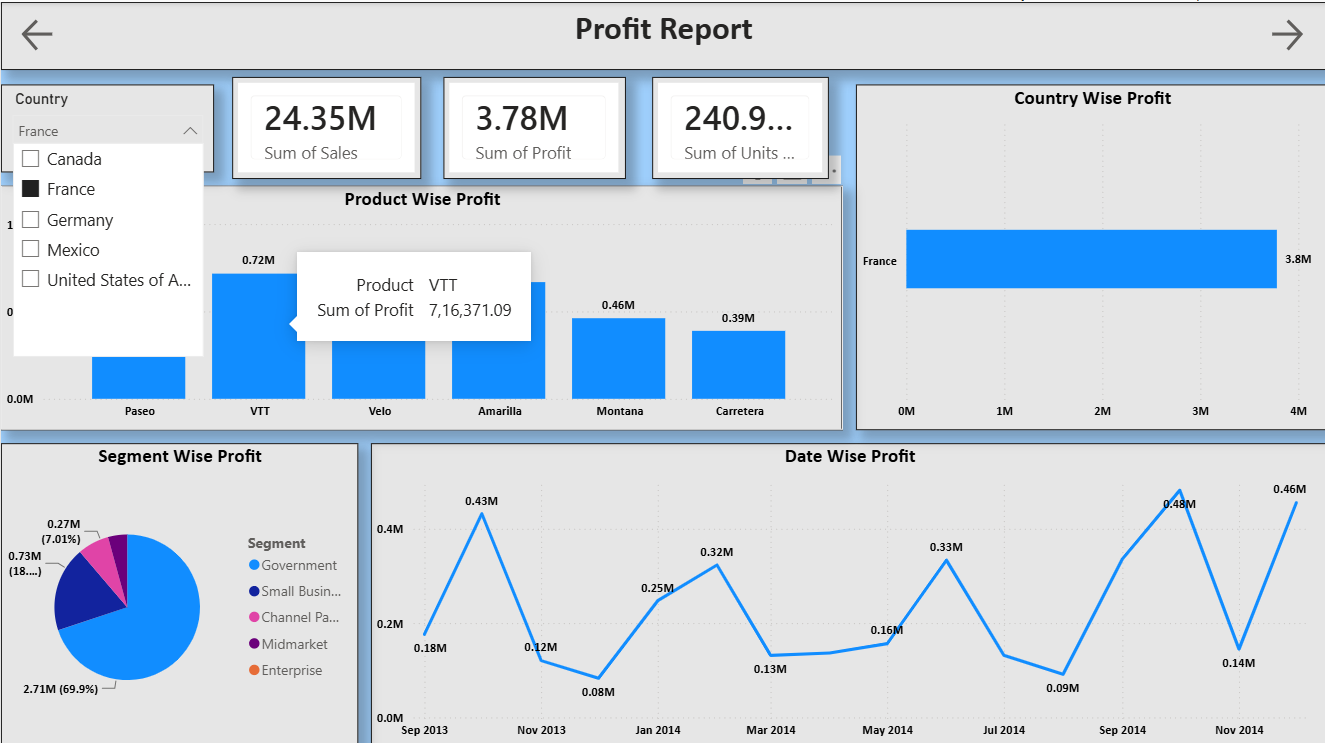

What the dashboard file says about the page in this screenshot:
{"tool":"powerbi","page":{"name":"Profit Report","canvas":[1280,720],"ordinal":2},"visuals":[{"type":"textbox","box":[0,0,1280.3,65.9],"z":0},{"type":"lineChart","title":"Date Wise Profit","fields":{"Y":["Sum(Sheet1.Profit)"],"Category":["Sheet1.Date"]},"box":[356.8,425.4,923.5,295],"z":1000},{"type":"barChart","title":"Country Wise Profit","fields":{"Category":["Sheet1.Country"],"Y":["Sum(Sheet1.Profit)"]},"box":[824.7,79.6,455.6,333.4],"z":2000},{"type":"columnChart","title":"Product Wise Profit","fields":{"Category":["Sheet1.Product"],"Y":["Sum(Sheet1.Profit)"]},"box":[0,177,812.4,236],"z":3000},{"type":"cardVisual","fields":{"Data":["Sum(Sheet1.Profit)"]},"box":[426.8,72.7,175.6,98.8],"z":4000},{"type":"cardVisual","fields":{"Data":["Sum(Sheet1.Units Sold)"]},"box":[628.5,72.7,170.2,98.8],"z":5000},{"type":"cardVisual","fields":{"Data":["Sum(Sheet1.Sales)"]},"box":[223.7,72.7,182.5,98.8],"z":6000},{"type":"pieChart","title":"Segment Wise Profit","fields":{"Category":["Sheet1.Segment"],"Y":["Sum(Sheet1.Profit)"]},"box":[0,425.4,344.4,295],"z":7000},{"type":"slicer","fields":{"Values":["Sheet1.Country"]},"box":[0,79.6,205.8,85.1],"z":8000},{"type":"actionButton","box":[15.1,12.3,57.6,39.8],"z":8001},{"type":"actionButton","box":[1221,12.3,59,39.8],"z":8002}]}

Visuals, with their boxes in screenshot pixels (x1, y1, x2, y2), scaled from the page's 1280x720 canvas onto the 1325x743 screenshot:
textbox: 0:0:1324:68
"Date Wise Profit" lineChart: 369:439:1324:742
"Country Wise Profit" barChart: 854:82:1324:426
"Product Wise Profit" columnChart: 0:183:841:426
cardVisual - Sum(Sheet1.Profit): 442:75:624:177
cardVisual - Sum(Sheet1.Units Sold): 651:75:827:177
cardVisual - Sum(Sheet1.Sales): 232:75:420:177
"Segment Wise Profit" pieChart: 0:439:357:742
slicer - Sheet1.Country: 0:82:213:170
actionButton: 16:13:75:54
actionButton: 1264:13:1324:54
